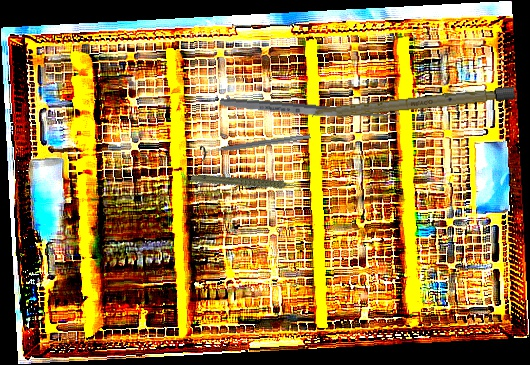Fixation Ring: (199, 127, 312, 163)
Handpiece: (189, 152, 303, 216)
Scalpel Handle: (310, 86, 516, 121)
Surgical Spoon: (219, 96, 401, 124)
